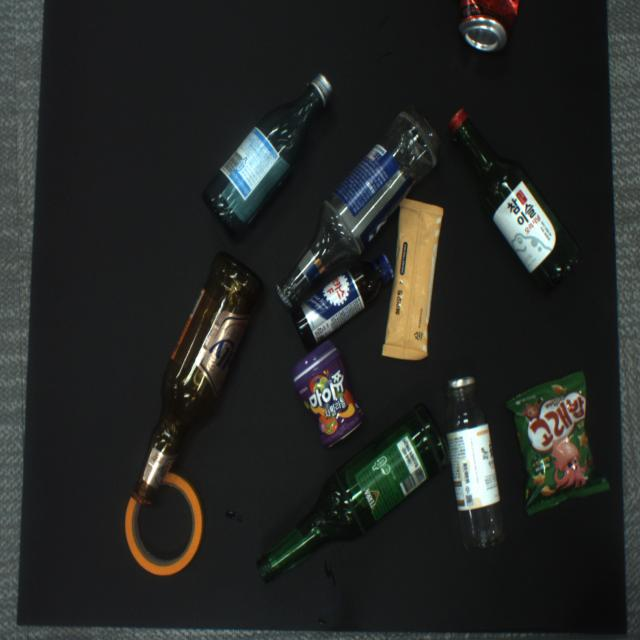beer-bottle: (259, 403, 450, 580), (277, 108, 443, 311), (131, 252, 262, 504)
soju-bottle: (448, 109, 580, 288), (203, 75, 331, 235)
